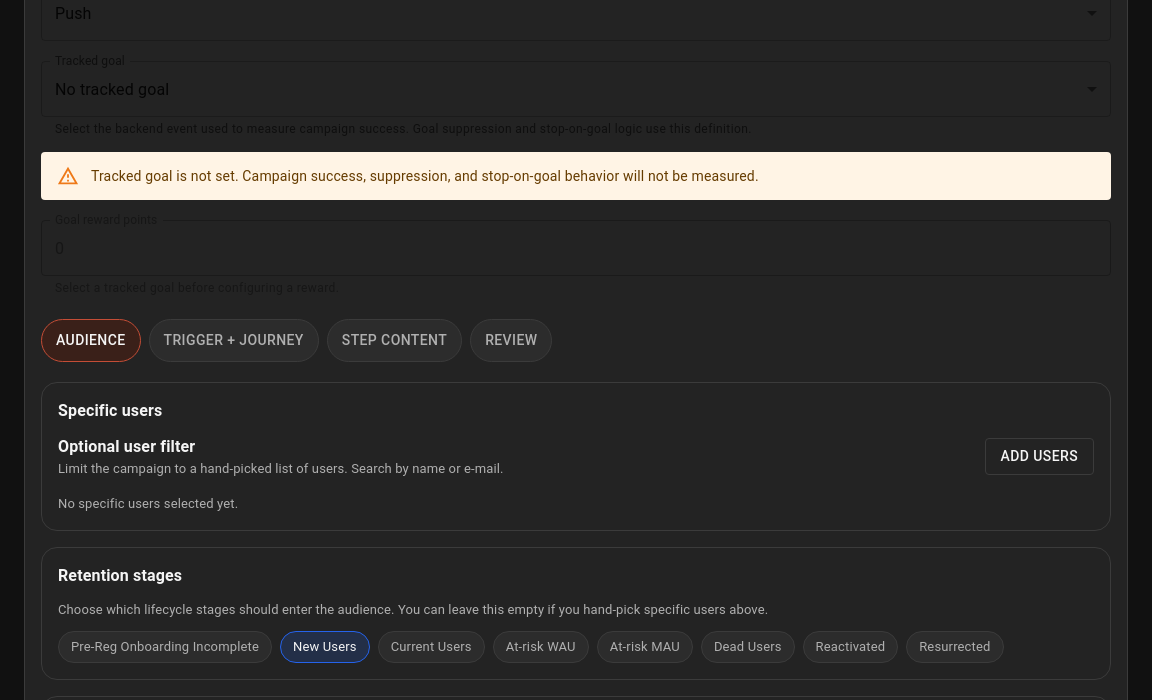
Test case: CampaignEditorPage › explains that step actions are optional and starts with no action selected
This screenshot has width=1152, height=700.
(page scrolled)
Click the button "Step Content": (394, 340) [327, 319, 462, 362]
(page scrolled)
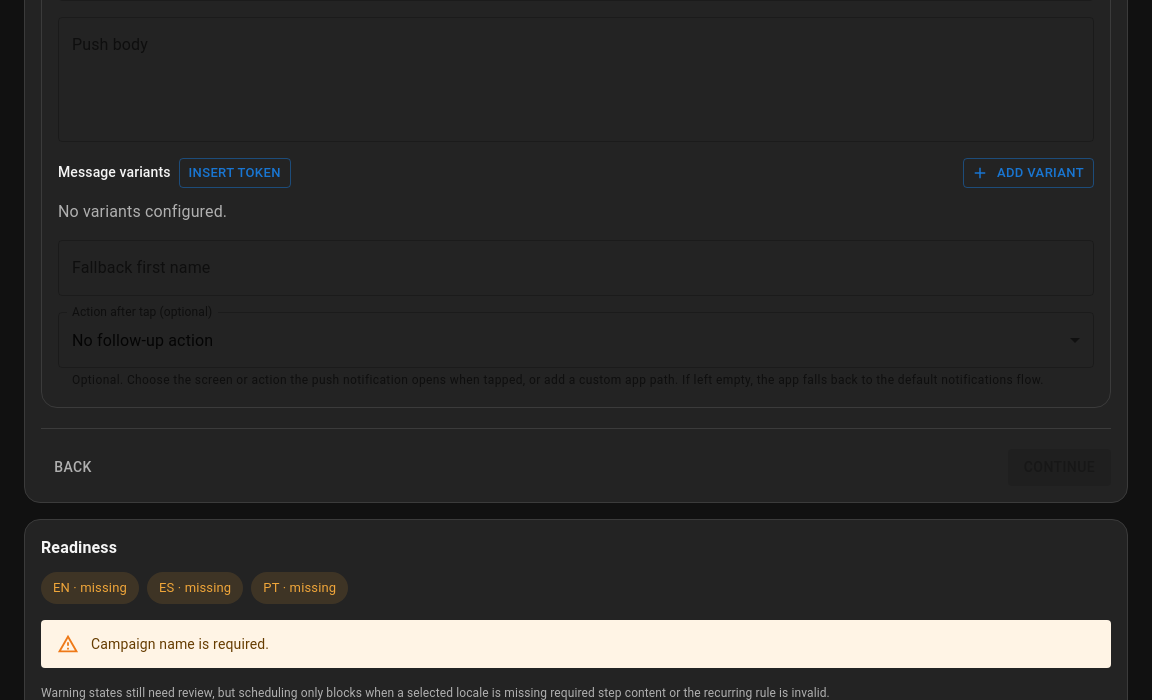
Expected: the dropdown "No follow-up action" is shown, [72, 331, 213, 350]
